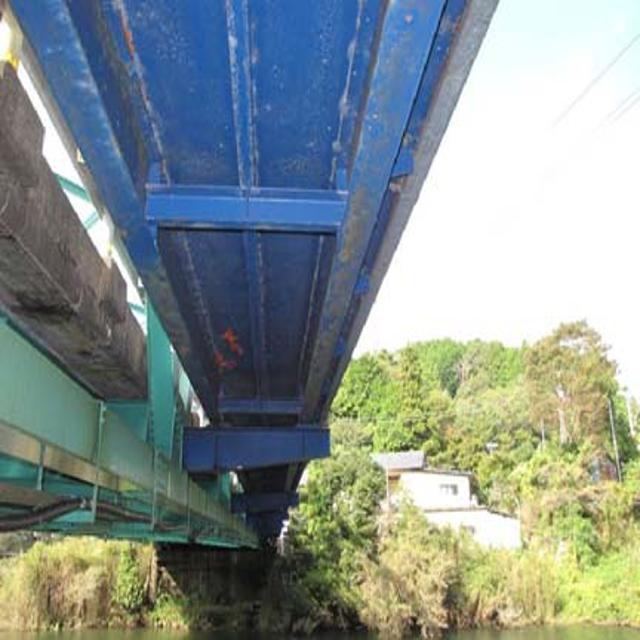corrosion: (200, 313, 256, 394)
